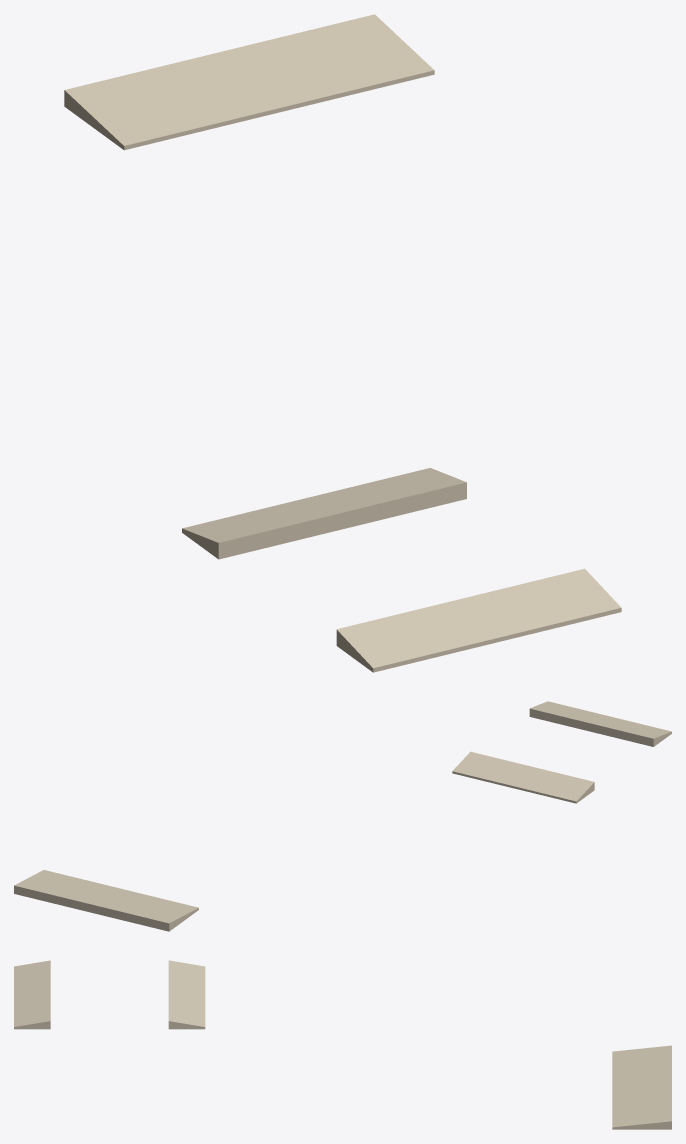
File: passage.glb
The picture shows the model from 3 angles, top to bottom: view 1: azimuth 30°, elevation 25°; view 2: azimuth 150°, elevation 25°; view 3: azimuth 270°, elevation 25°; orthographic projection. The views are drawn at different scales.
Visible parts, largest first — view 1: Accessible threshold.002, Accessible threshold, Accessible threshold.001; view 2: Accessible threshold.002, Accessible threshold.001, Accessible threshold; view 3: Accessible threshold.002, Accessible threshold.001, Accessible threshold.
Boxes of the visible parts, x1,y1,x2,y2 form: Accessible threshold.002: (64, 14, 434, 150); Accessible threshold: (336, 568, 621, 672); Accessible threshold.001: (182, 468, 466, 559); Accessible threshold.002: (14, 870, 198, 931); Accessible threshold.001: (452, 751, 594, 803); Accessible threshold: (529, 701, 671, 746); Accessible threshold.002: (612, 1045, 671, 1129); Accessible threshold.001: (168, 960, 205, 1029); Accessible threshold: (14, 960, 50, 1029).
Bounding box in the file's own units: 9.55 × 0.23 × 16.5.
